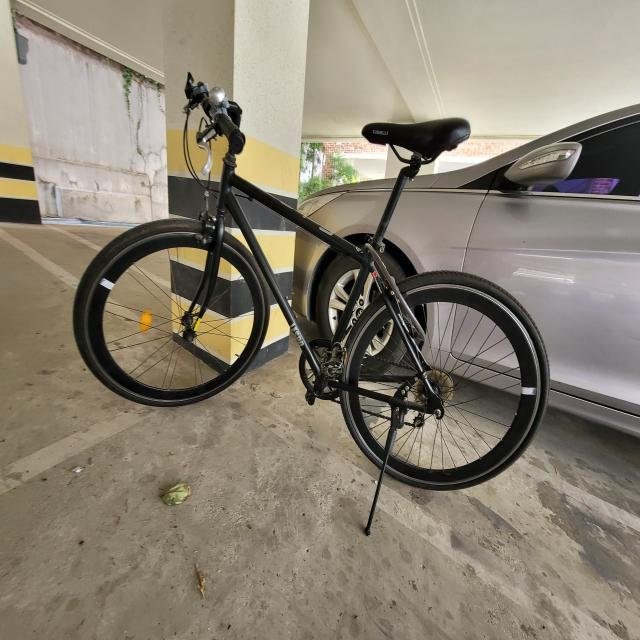bicycle: (72, 71, 550, 533)
